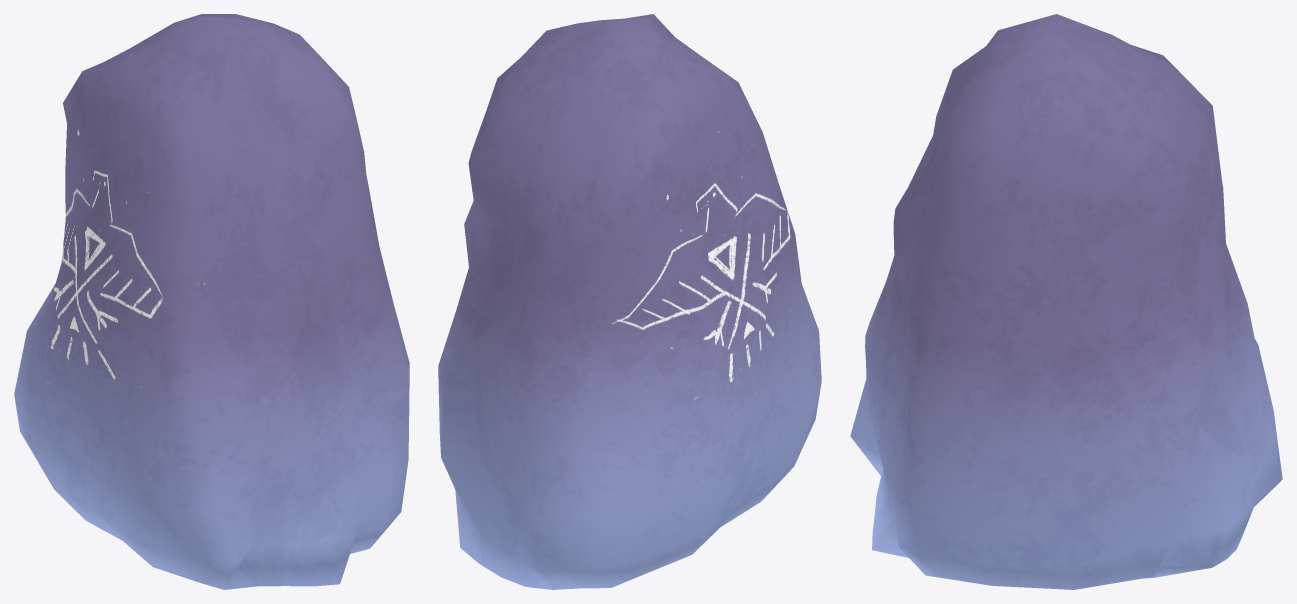
The model's file is rock_bird.glb.
The picture shows the model from 3 angles, left to right: view 1: azimuth 30°, elevation 25°; view 2: azimuth 150°, elevation 25°; view 3: azimuth 270°, elevation 25°; orthographic projection. The views are drawn at different scales.
Parts seen in each view (by area): view 1: pCube1.001; view 2: pCube1.001; view 3: pCube1.001.
Boxes of the visible parts, x1,y1,x2,y2 form: pCube1.001: (14, 14, 409, 589); pCube1.001: (438, 14, 821, 589); pCube1.001: (850, 14, 1282, 589).
Bounding box in the file's own units: 0.6984 × 1.15 × 0.8715.
Materials: 1 (1 with a texture image).
